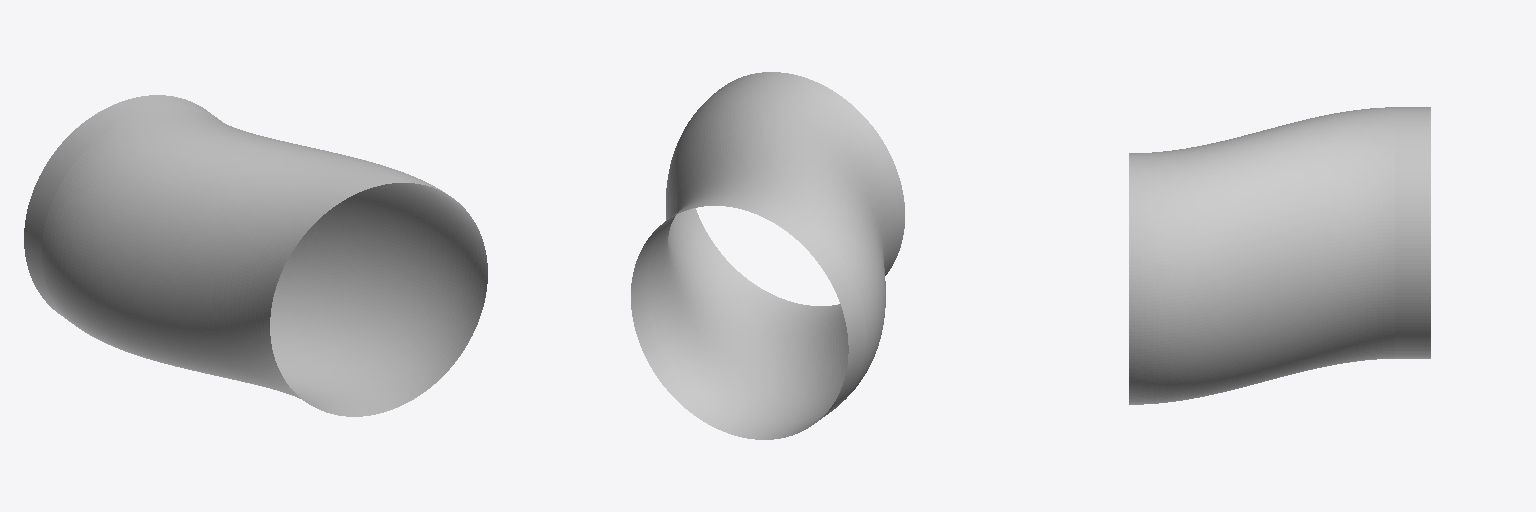
File: tunnel_base_leftTurn.obj
3 renders of one model, left to right at view 1: azimuth 30°, elevation 25°; view 2: azimuth 150°, elevation 25°; view 3: azimuth 270°, elevation 25°, orthographic.
Parts seen in each view (by area): view 1: pCylinder1; view 2: pCylinder1; view 3: pCylinder1.
Part boxes in pixels (bbox=[...]): pCylinder1: bbox=[24, 95, 487, 416]; pCylinder1: bbox=[631, 72, 904, 439]; pCylinder1: bbox=[1129, 107, 1430, 404].
Bounding box in the file's own units: 6.11 × 4.26 × 5.13.